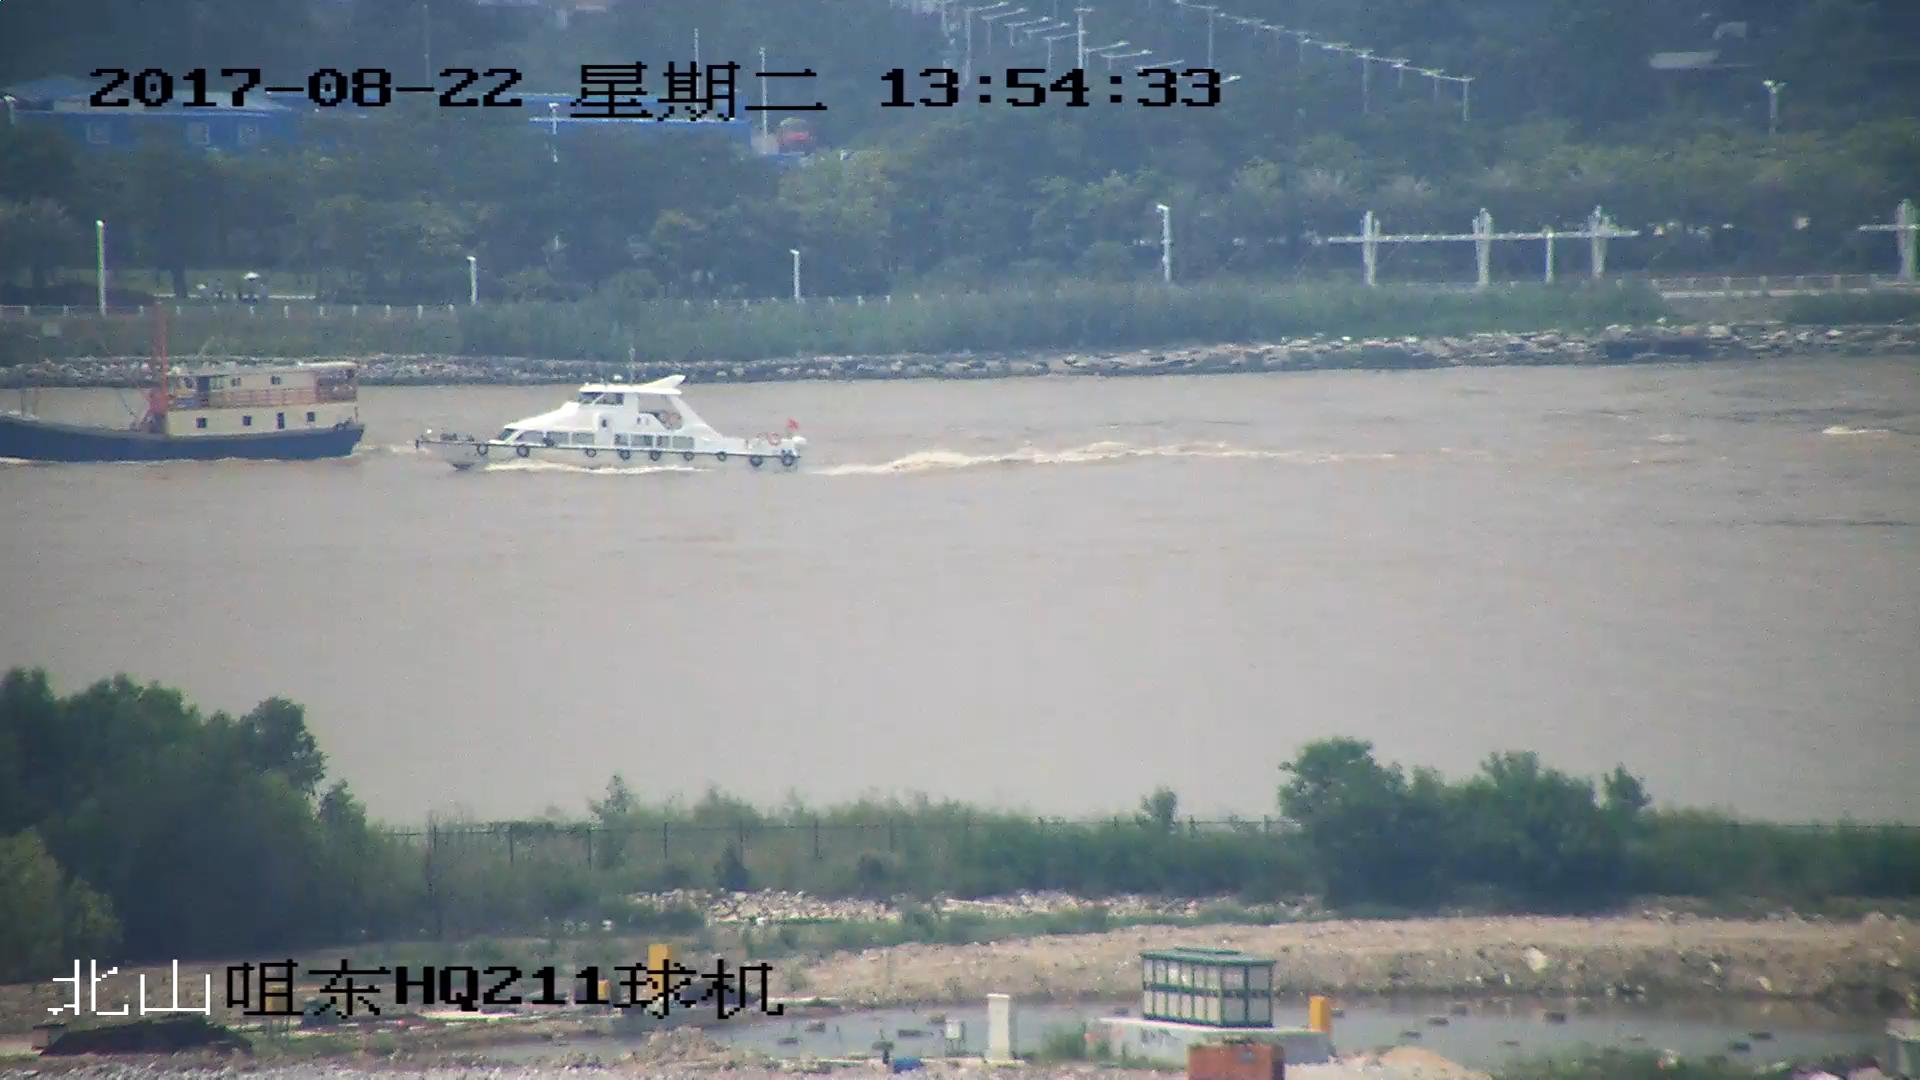fishing boat: (1, 308, 364, 465)
passenger ship: (416, 373, 812, 479)
